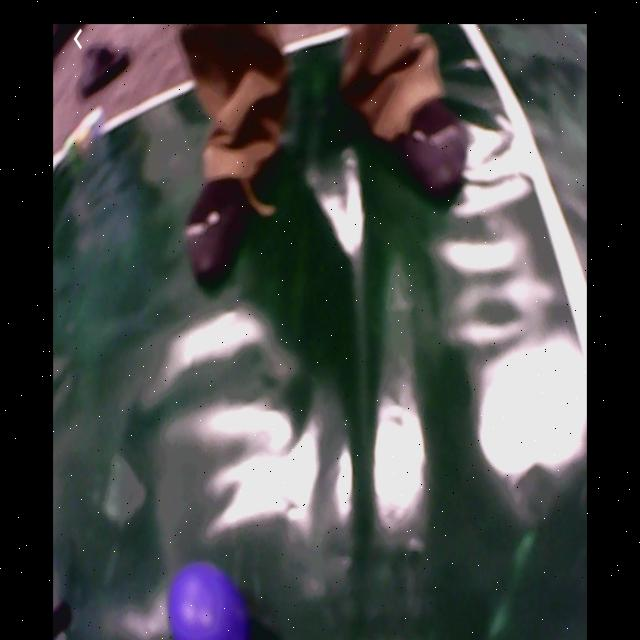ball: (168, 566, 250, 639)
